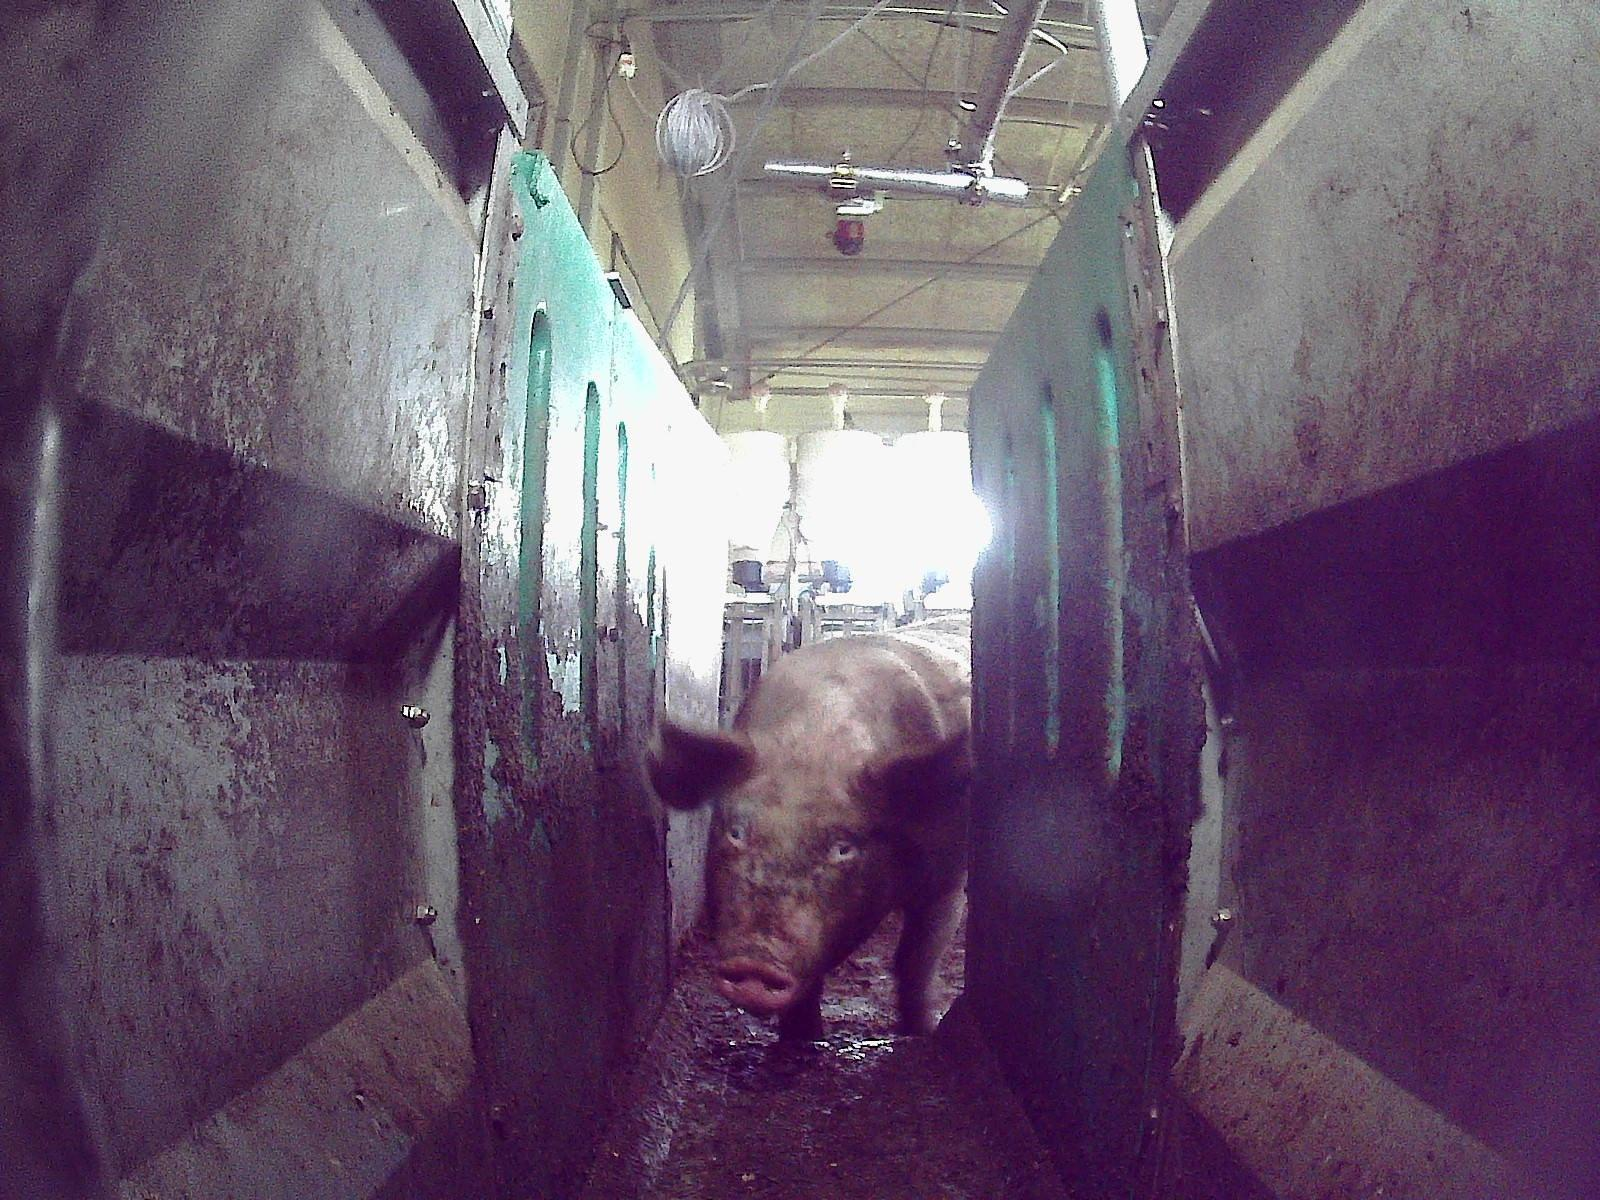Face: (705, 748, 905, 1012)
